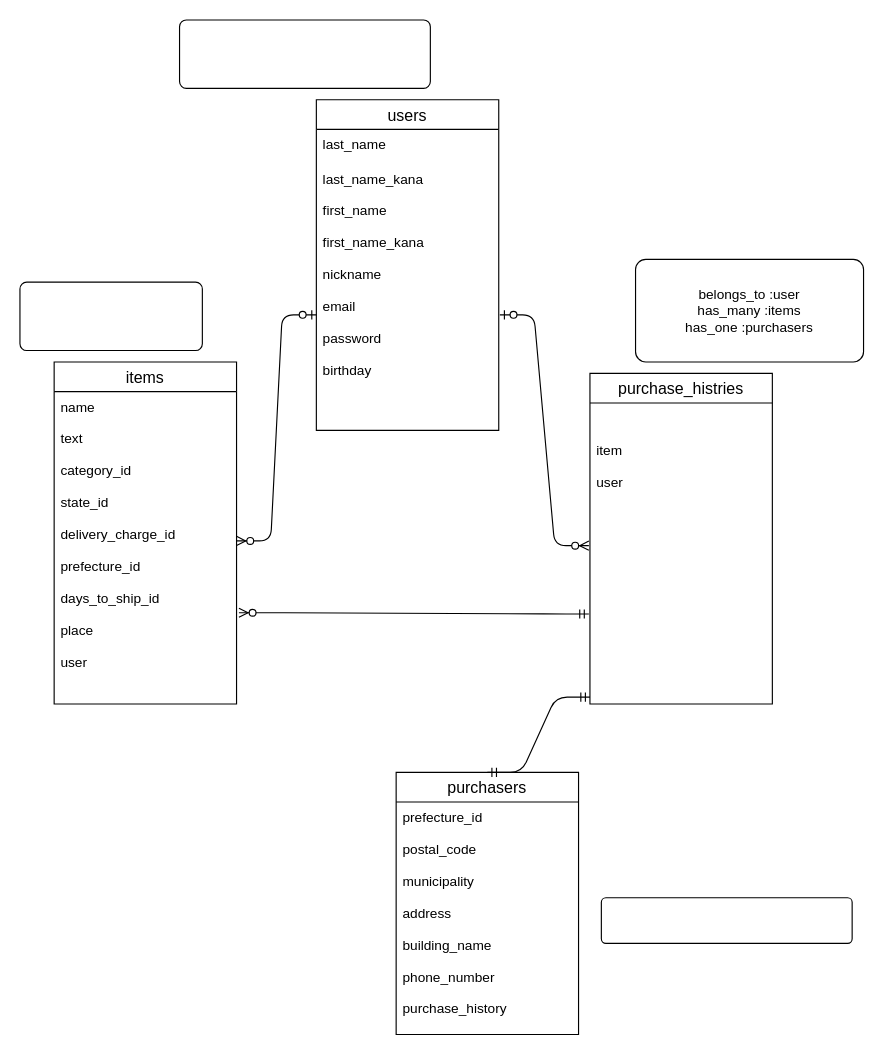
The diagram is 884 pixels wide and 1058 high, and some of its shapes have lost their labels. The shapes that lost their labels are listed below. From the top down, each one's centre as x and y in pixels, then its label:
the point at 304,53: has_many :items has_one :purchase_history
the point at 110,316: belongs_to :user belongs_to :purchase_history
the point at 726,920: belongs_to :purchase_history
